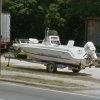Boat: (9, 32, 98, 75)
